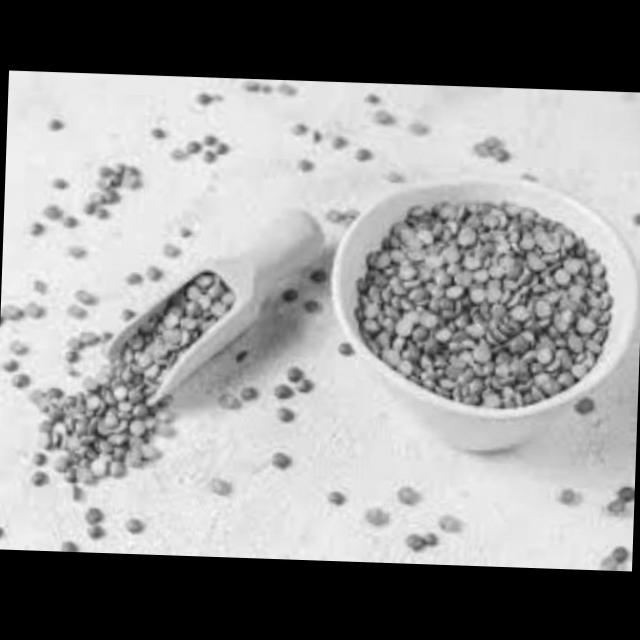peas: (348, 196, 615, 413), (19, 274, 261, 488), (24, 118, 168, 230), (308, 475, 477, 562), (362, 81, 512, 165), (544, 456, 635, 570), (276, 245, 361, 366), (0, 491, 150, 552), (280, 111, 406, 178), (224, 368, 324, 452), (181, 74, 326, 108), (118, 224, 192, 280), (0, 283, 30, 405), (309, 190, 372, 236), (174, 122, 242, 158), (249, 439, 297, 472), (66, 232, 105, 270), (564, 384, 601, 422), (202, 470, 242, 504), (624, 203, 640, 234)
